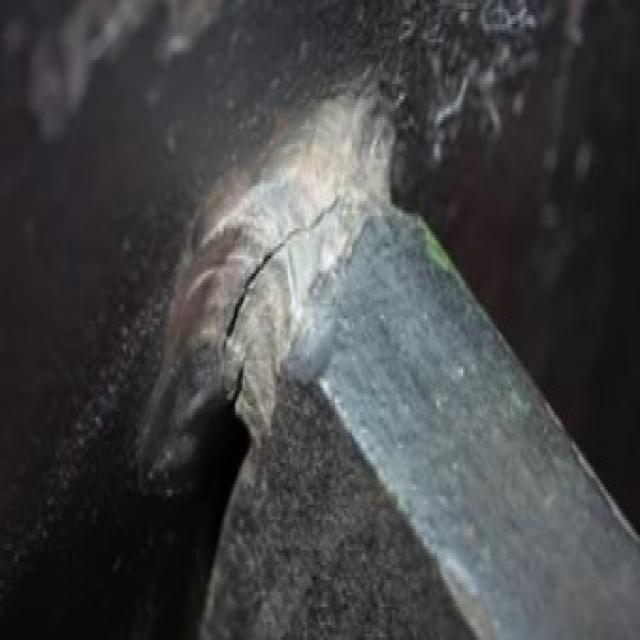Defect: (212, 189, 344, 400)
